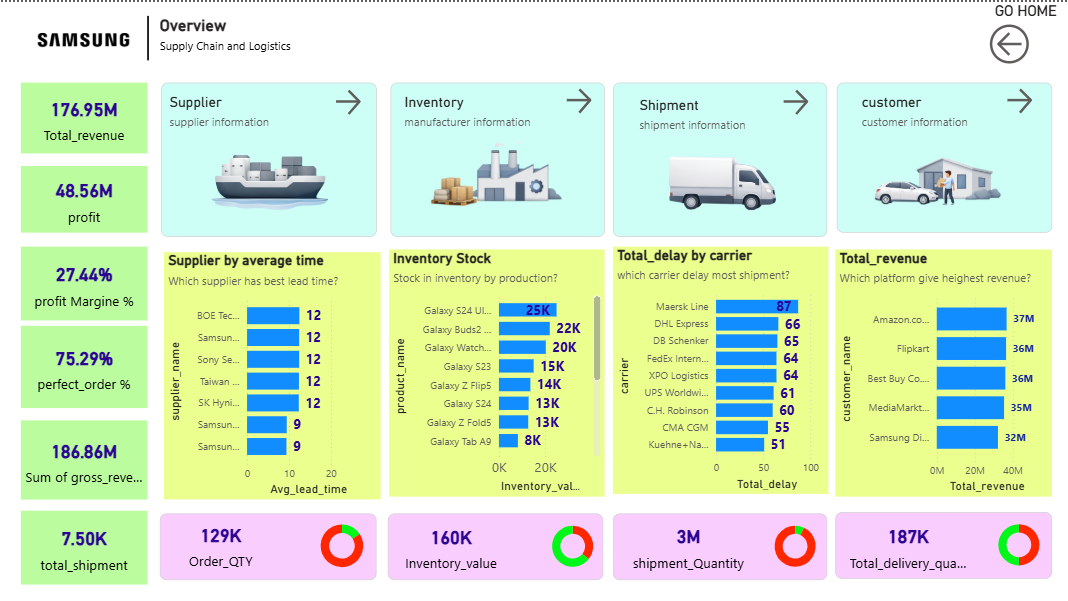

The dashboard page shown, as its layout file describes it:
{"tool":"powerbi","page":{"name":"Overview","canvas":[1280,720],"ordinal":1},"visuals":[{"type":"shape","box":[193.3,96.7,258.3,185],"z":0},{"type":"shape","box":[1003.3,96.7,258.3,180],"z":1000},{"type":"shape","box":[735,96.7,256.7,185],"z":2000},{"type":"shape","box":[468.3,96.7,256.7,185],"z":3000},{"type":"image","box":[230,158.3,180,100],"z":4000},{"type":"image","box":[485,140,210,123.3],"z":5000},{"type":"image","box":[778.3,160,171.7,103.3],"z":6000},{"type":"image","box":[1035,171.7,186.7,81.7],"z":7000},{"type":"actionButton","box":[396.7,100,53.3,40],"z":8000},{"type":"actionButton","box":[673.3,98.3,50,40],"z":9000},{"type":"actionButton","box":[933.3,100,53.3,40],"z":10000},{"type":"actionButton","box":[1201.7,98.3,56.7,40],"z":11000},{"type":"shape","title":"Supplier","box":[203.3,110,131.7,43.3],"z":12000},{"type":"shape","title":"Inventory","box":[485,110.3,160,43.3],"z":13000},{"type":"shape","title":"Shipment","box":[766.2,114,131.7,43.3],"z":14000},{"type":"shape","title":"customer","box":[1033.3,110,131.7,43.3],"z":15000},{"type":"shape","title":"Overview","box":[192,17.2,161.7,46.7],"z":16000},{"type":"shape","box":[162.8,17.2,28.3,53.3],"z":17000},{"type":"image","box":[31,24.3,131.4,40],"z":18000},{"type":"card","fields":{"Values":["measurestable.Total_revenue"]},"box":[25,96.7,151.7,85],"z":19000},{"type":"card","fields":{"Values":["measurestable.profit"]},"box":[25,196.7,151.7,80],"z":20000},{"type":"card","fields":{"Values":["measurestable.profit Margine %"]},"box":[25,293.3,151.7,88.3],"z":21000},{"type":"card","fields":{"Values":["measurestable.perfect_order %"]},"box":[25,388.3,151.7,98.3],"z":22000},{"type":"card","fields":{"Values":["measurestable.total_shipment"]},"box":[25,610,151.7,88.3],"z":23000},{"type":"card","fields":{"Values":["Sum(fact_sales.gross_revenue)"]},"box":[25,501.7,151.7,95],"z":24000},{"type":"barChart","title":"Supplier by average time","fields":{"Y":["measurestable.Avg_lead_time"],"Category":["dim_supplier.supplier_name"]},"box":[196.7,300,260,296.7],"z":25000},{"type":"shape","box":[191.7,613.3,260,80],"z":25000,"group":"g1"},{"type":"barChart","title":"Inventory Stock","fields":{"Y":["measurestable.Inventory_value"],"Category":["dim_product.product_name"]},"box":[466.7,296.7,258.3,296.7],"z":26000},{"type":"shape","box":[465,613.4,258.3,80],"z":26000,"group":"g3"},{"type":"barChart","fields":{"Y":["measurestable.Total_delay"],"Category":["fact_shipment.carrier"]},"box":[735,293.3,258.3,296.7],"z":27000},{"type":"shape","box":[735,613.4,256.7,80],"z":27000,"group":"g4"},{"type":"barChart","title":"Total_revenue","fields":{"Y":["measurestable.Total_revenue"],"Category":["dim_customer.customer_name"]},"box":[1001.7,296.7,260,296.7],"z":28000},{"type":"shape","box":[1001.7,611.7,260,80],"z":28000,"group":"g2"},{"type":"actionButton","title":"GO HOME","box":[1180,0,100,80],"z":29000},{"type":"card","fields":{"Values":["measurestable.Order_QTY"]},"box":[202.8,614,122.8,73],"z":29000,"group":"g1"},{"type":"group","id":"g1","title":"Group 1","box":[191.7,613.3,260,80],"z":30000},{"type":"card","fields":{"Values":["measurestable.Inventory_value"]},"box":[475.7,614.4,131.8,74.6],"z":30000,"group":"g3"},{"type":"group","id":"g2","title":"Group 4","box":[465,611.7,796.7,81.7],"z":31000},{"type":"card","fields":{"Values":["measurestable.Total_shipment_Quantity"]},"box":[750.1,614.4,150.9,72.8],"z":31000,"group":"g4"},{"type":"card","fields":{"Values":["measurestable.Total_delivery_quantity"]},"box":[1013.4,614.8,151.3,73],"z":32000,"group":"g2"},{"type":"donutChart","fields":{"Y":["measurestable.safety_stock","measurestable.Inventory_value"]},"box":[650,616.7,73.3,71.7],"z":37000,"group":"g3"},{"type":"donutChart","fields":{"Y":["measurestable.Total_delay","measurestable.total_shipment"]},"box":[916.7,616.7,73.3,71.7],"z":38000,"group":"g4"},{"type":"donutChart","fields":{"Y":["measurestable.Total_QTY_delay","measurestable.Total_delivery_quantity"]},"box":[1181.7,615,80,71.7],"z":39000,"group":"g2"},{"type":"donutChart","fields":{"Y":["measurestable.Defect_rate","measurestable.Order_QTY"]},"box":[369.4,615,80,74],"z":40000,"group":"g1"},{"type":"group","id":"g3","title":"Group 2","box":[465,613.4,258.3,80],"z":41002,"group":"g4"},{"type":"group","id":"g4","title":"Group 3","box":[465,613.4,526.7,80],"z":41003,"group":"g2"}]}

Visuals, with their boxes in screenshot pixels (x1, y1, x2, y2), scaled from the page's 1280x720 canvas onto the 1068x601 screenshot:
shape: 161,81,377,235
shape: 837,81,1053,231
shape: 613,81,827,235
shape: 391,81,605,235
image: 192,132,342,216
image: 405,117,580,220
image: 649,134,793,220
image: 864,143,1019,212
actionButton: 331,83,375,117
actionButton: 562,82,604,115
actionButton: 779,83,823,117
actionButton: 1003,82,1050,115
"Supplier" shape: 170,92,280,128
"Inventory" shape: 405,92,538,128
"Shipment" shape: 639,95,749,131
"customer" shape: 862,92,972,128
"Overview" shape: 160,14,295,53
shape: 136,14,159,59
image: 26,20,136,54
card - measurestable.Total_revenue: 21,81,147,152
card - measurestable.profit: 21,164,147,231
card - measurestable.profit Margine %: 21,245,147,319
card - measurestable.perfect_order %: 21,324,147,406
card - measurestable.total_shipment: 21,509,147,583
card - Sum(fact_sales.gross_revenue): 21,419,147,498
"Supplier by average time" barChart: 164,250,381,498
shape: 160,512,377,579
"Inventory Stock" barChart: 389,248,605,495
shape: 388,512,604,579
barChart - measurestable.Total_delay x fact_shipment.carrier: 613,245,829,492
shape: 613,512,827,579
"Total_revenue" barChart: 836,248,1053,495
shape: 836,511,1053,577
"GO HOME" actionButton: 985,0,1067,67
card - measurestable.Order_QTY: 169,513,272,573
"Group 1" group: 160,512,377,579
card - measurestable.Inventory_value: 397,513,507,575
"Group 4" group: 388,511,1053,579
card - measurestable.Total_shipment_Quantity: 626,513,752,574
card - measurestable.Total_delivery_quantity: 846,513,972,574
donutChart - measurestable.safety_stock x measurestable.Inventory_value: 542,515,604,575
donutChart - measurestable.Total_delay x measurestable.total_shipment: 765,515,826,575
donutChart - measurestable.Total_QTY_delay x measurestable.Total_delivery_quantity: 986,513,1053,573
donutChart - measurestable.Defect_rate x measurestable.Order_QTY: 308,513,375,575
"Group 2" group: 388,512,604,579
"Group 3" group: 388,512,827,579
